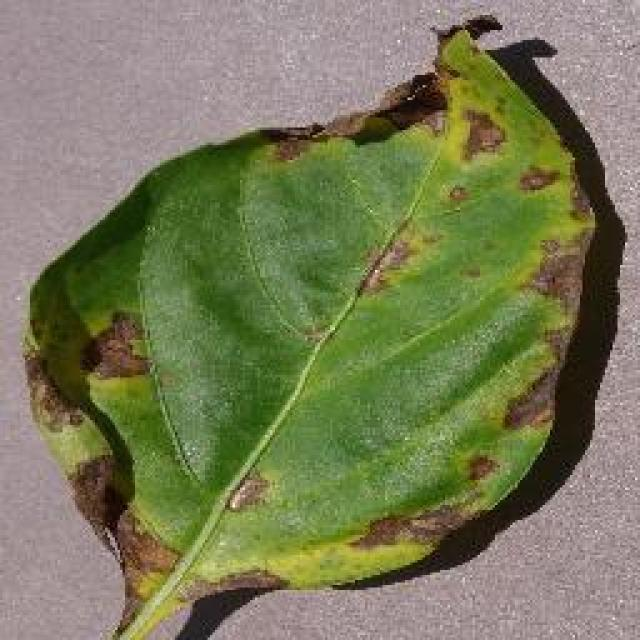Chilli_Bacterial_Spot: (18, 12, 600, 638), (80, 310, 152, 382), (427, 10, 505, 52), (455, 105, 507, 163), (222, 467, 272, 515), (512, 160, 562, 198), (458, 450, 502, 488), (457, 10, 505, 42), (440, 178, 472, 210)
